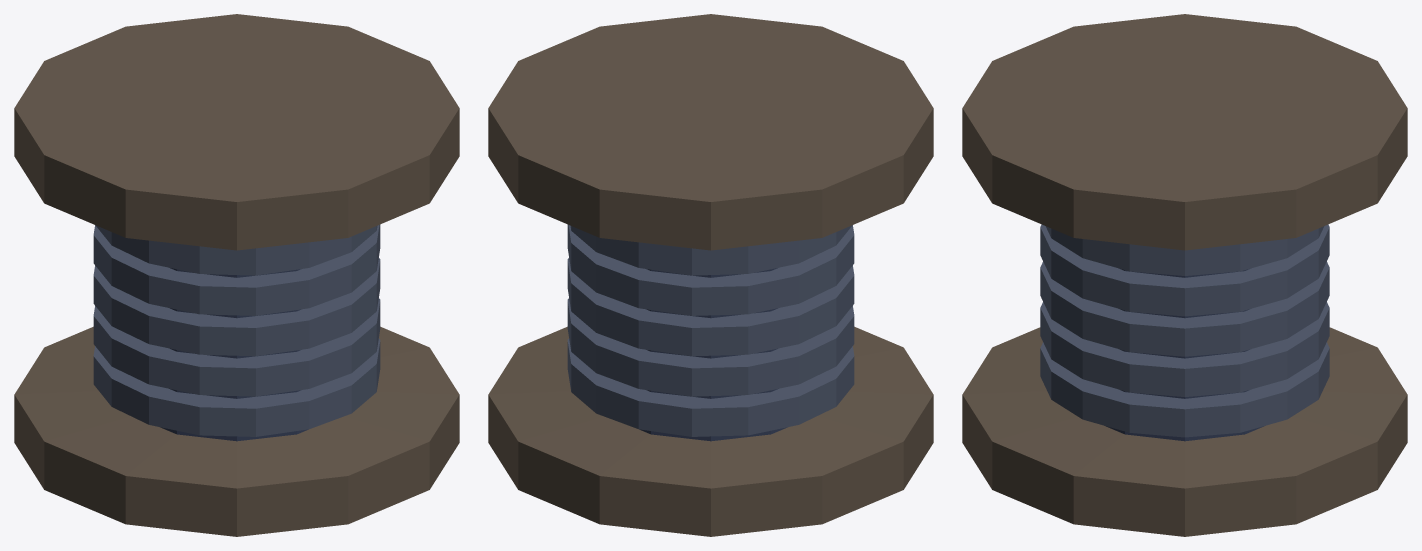
The model's file is cable-spool.glb.
The picture shows the model from 3 angles, left to right: view 1: azimuth 30°, elevation 25°; view 2: azimuth 150°, elevation 25°; view 3: azimuth 270°, elevation 25°; orthographic projection.
Visible parts, largest first — view 1: cable-spool__body; view 2: cable-spool__body; view 3: cable-spool__body.
Boxes of the visible parts, x1,y1,x2,y2 form: cable-spool__body: (14,14,459,536); cable-spool__body: (488,14,933,536); cable-spool__body: (962,14,1407,536).
Bounding box in the file's own units: 1 × 0.83 × 1.
